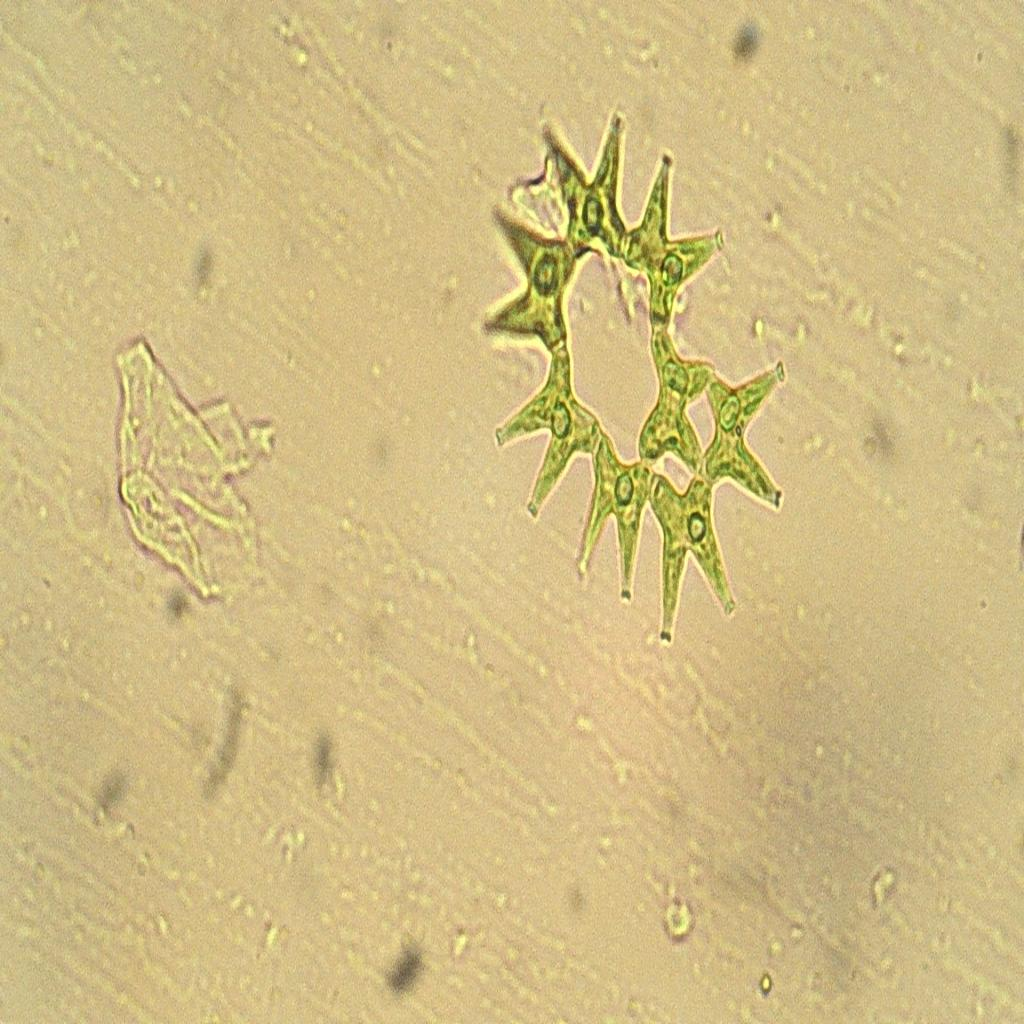Pediastrum_1TH: (470, 81, 795, 651)
